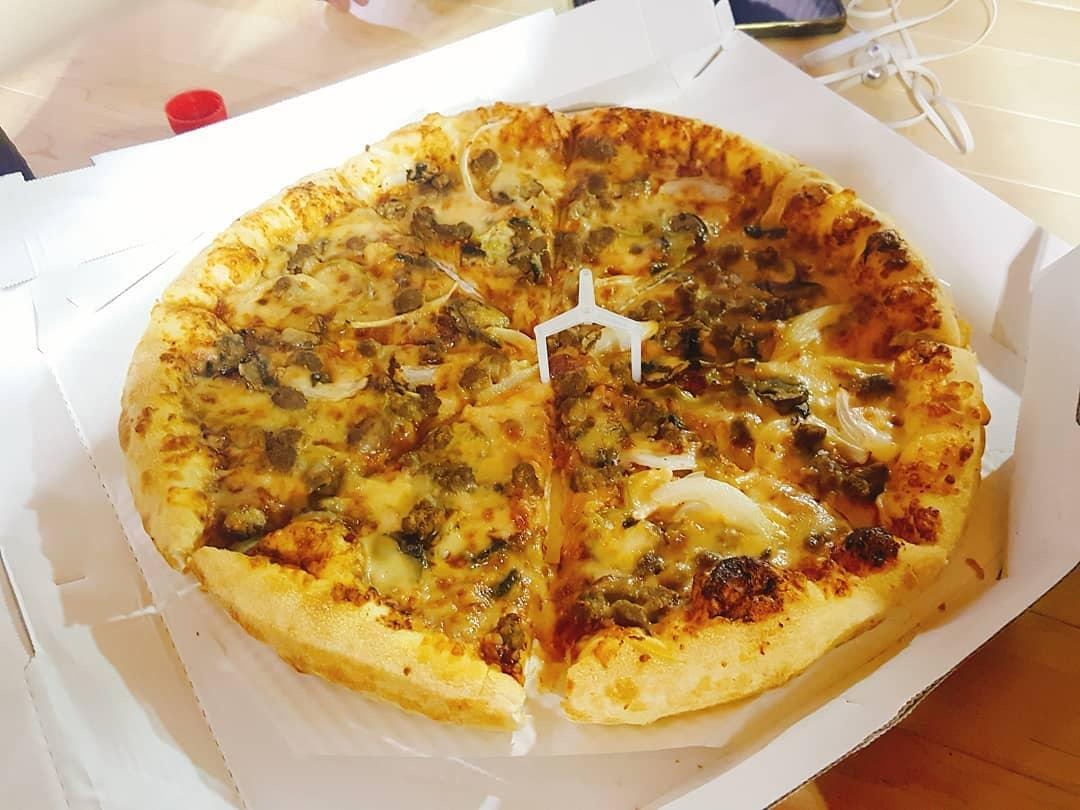Pizza: (122, 104, 980, 720)
